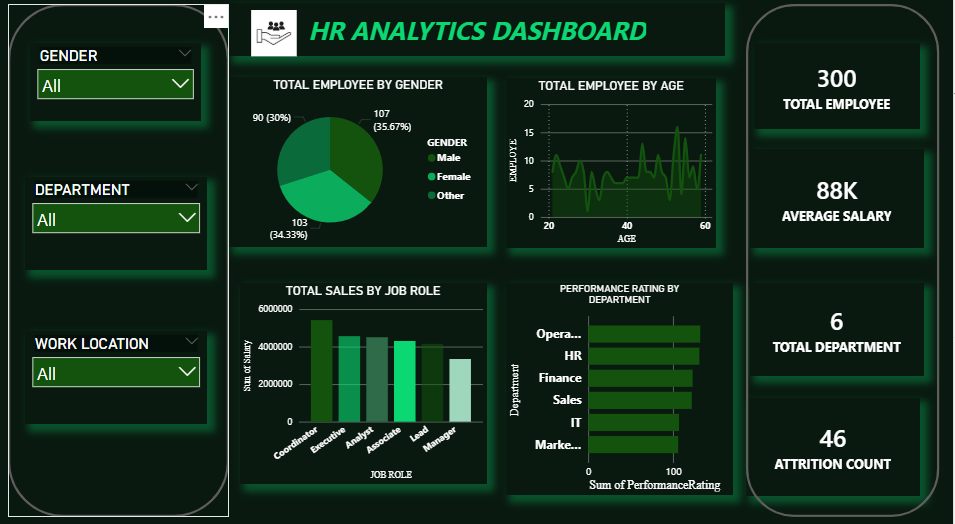

The dashboard page shown, as its layout file describes it:
{"tool":"powerbi","page":{"name":"DASHBOARD","canvas":[1280,720],"ordinal":0},"visuals":[{"type":"cardVisual","fields":{"Data":["MEASURE.TOTAL EMPLOYEE"]},"box":[1014.3,68.2,221.6,115.1],"z":0},{"type":"cardVisual","fields":{"Data":["MEASURE.AVERAGE SALARY"]},"box":[1008.7,210.3,233,132.1],"z":1000},{"type":"cardVisual","fields":{"Data":["MEASURE.TOTAL DEPARTMENT"]},"box":[1008.7,389.3,233,123.6],"z":2000},{"type":"cardVisual","fields":{"Data":["MEASURE.ATTRITION COUNT"]},"box":[1003,542.7,233,130.7],"z":3000},{"type":"actionButton","box":[15.6,15.6,295.5,686.2],"z":4000},{"type":"slicer","fields":{"Values":["HR ANALYSIS.Gender"]},"box":[45.5,68.2,228.7,103.7],"z":5000},{"type":"actionButton","box":[1003,15.6,258.6,686.2],"z":6000},{"type":"slicer","fields":{"Values":["HR ANALYSIS.Department"]},"box":[38.4,247.2,244.4,125],"z":7000},{"type":"slicer","fields":{"Values":["HR ANALYSIS.WorkLocation"]},"box":[38.4,453.2,244.4,125],"z":8000},{"type":"pieChart","title":"TOTAL EMPLOYEE BY GENDER","fields":{"Y":["MEASURE.TOTAL EMPLOYEE"],"Category":["HR ANALYSIS.Gender"]},"box":[311.1,113.7,345.2,227.3],"z":9000},{"type":"lineChart","title":"TOTAL EMPLOYEE BY AGE ","fields":{"Category":["HR ANALYSIS.Age"],"Y":["MEASURE.TOTAL EMPLOYEE"]},"box":[682,115,281,227],"z":10000},{"type":"columnChart","title":"TOTAL SALES BY JOB ROLE","fields":{"Category":["HR ANALYSIS.JobRole"],"Y":["Sum(HR ANALYSIS.Salary)"]},"box":[326.7,389.3,329.6,268.5],"z":11000},{"type":"clusteredBarChart","title":"PERFORMANCE RATING BY DEPARTMENT","fields":{"Category":["HR ANALYSIS.Department"],"Y":["Sum(HR ANALYSIS.PerformanceRating)"]},"box":[681.9,389.3,304,284.1],"z":11001},{"type":"shape","box":[311.4,14.5,663.5,70.9],"z":11002},{"type":"image","box":[294.3,23.6,155,61.8],"z":11003}]}

Visuals, with their boxes in screenshot pixels (x1, y1, x2, y2), scaled from the page's 1280x720 canvas onto the 955x524 screenshot:
cardVisual - MEASURE.TOTAL EMPLOYEE: 757 50 922 133
cardVisual - MEASURE.AVERAGE SALARY: 753 153 926 249
cardVisual - MEASURE.TOTAL DEPARTMENT: 753 283 926 373
cardVisual - MEASURE.ATTRITION COUNT: 748 395 922 490
actionButton: 12 11 232 511
slicer - HR ANALYSIS.Gender: 34 50 205 125
actionButton: 748 11 941 511
slicer - HR ANALYSIS.Department: 29 180 211 271
slicer - HR ANALYSIS.WorkLocation: 29 330 211 421
"TOTAL EMPLOYEE BY GENDER" pieChart: 232 83 490 248
"TOTAL EMPLOYEE BY AGE " lineChart: 509 84 718 249
"TOTAL SALES BY JOB ROLE" columnChart: 244 283 490 479
"PERFORMANCE RATING BY DEPARTMENT" clusteredBarChart: 509 283 736 490
shape: 232 11 727 62
image: 220 17 335 62
